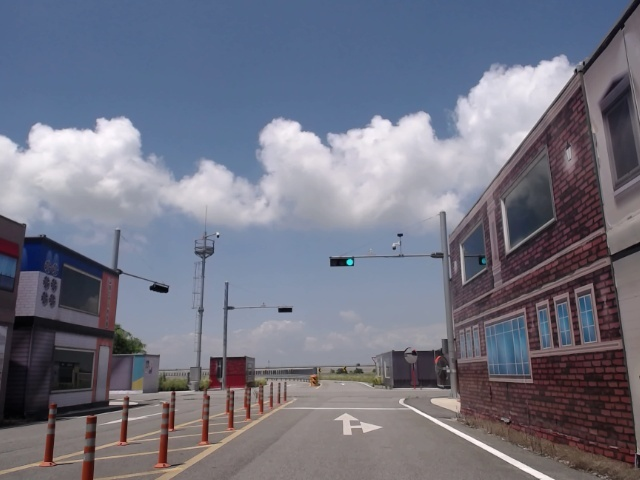green_3: (330, 259, 354, 266)
